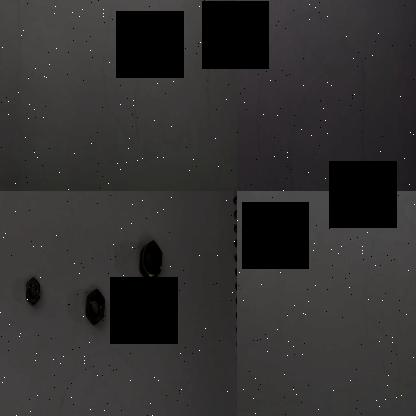NUTS: (80, 268, 116, 338), (135, 233, 166, 296), (21, 260, 46, 320)
